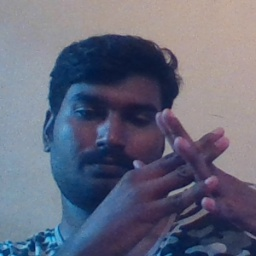W: (141, 99, 245, 230)
